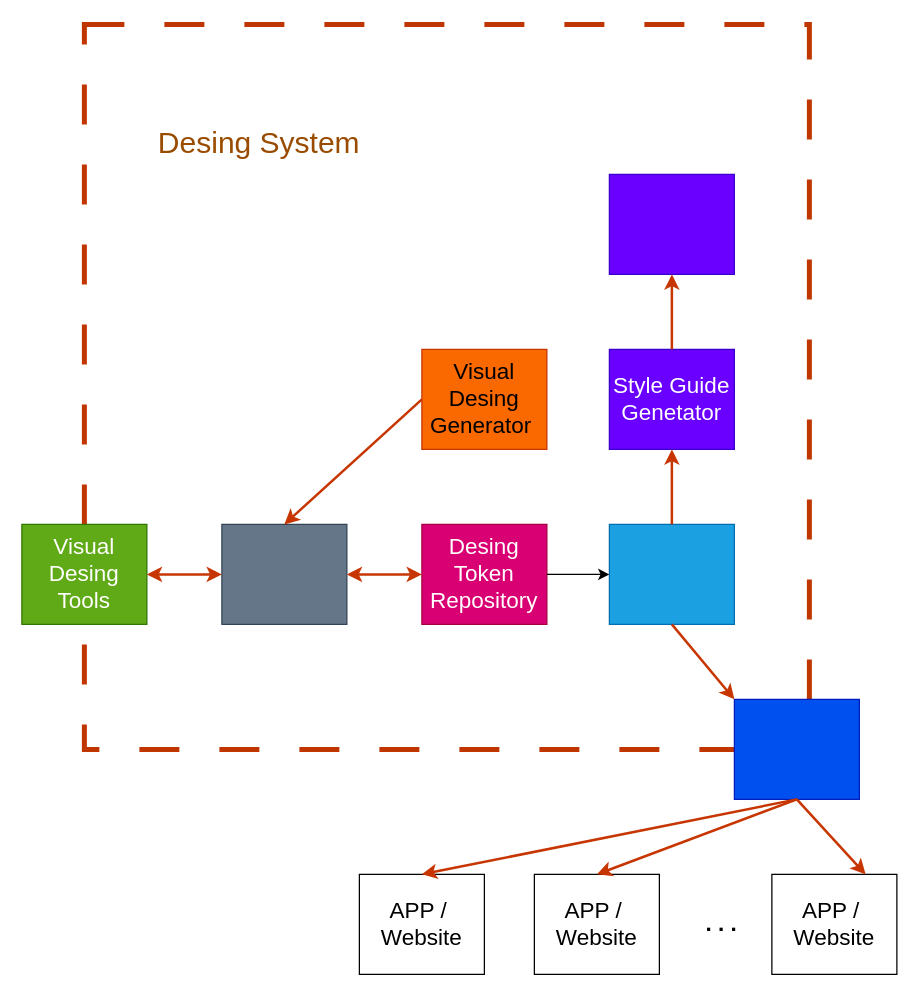
Image size: 919x996. Some labels were removed from this diagram. The centre of each missing label's shape, as x and y in pixels:
Living Sytle Guide: the point at 671,223
Package Manager / Repo: the point at 796,748
UI Library: the point at 671,573
Visual Desing Repository: the point at 284,573
